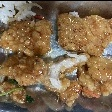guobaorou: (0, 13, 112, 106)
